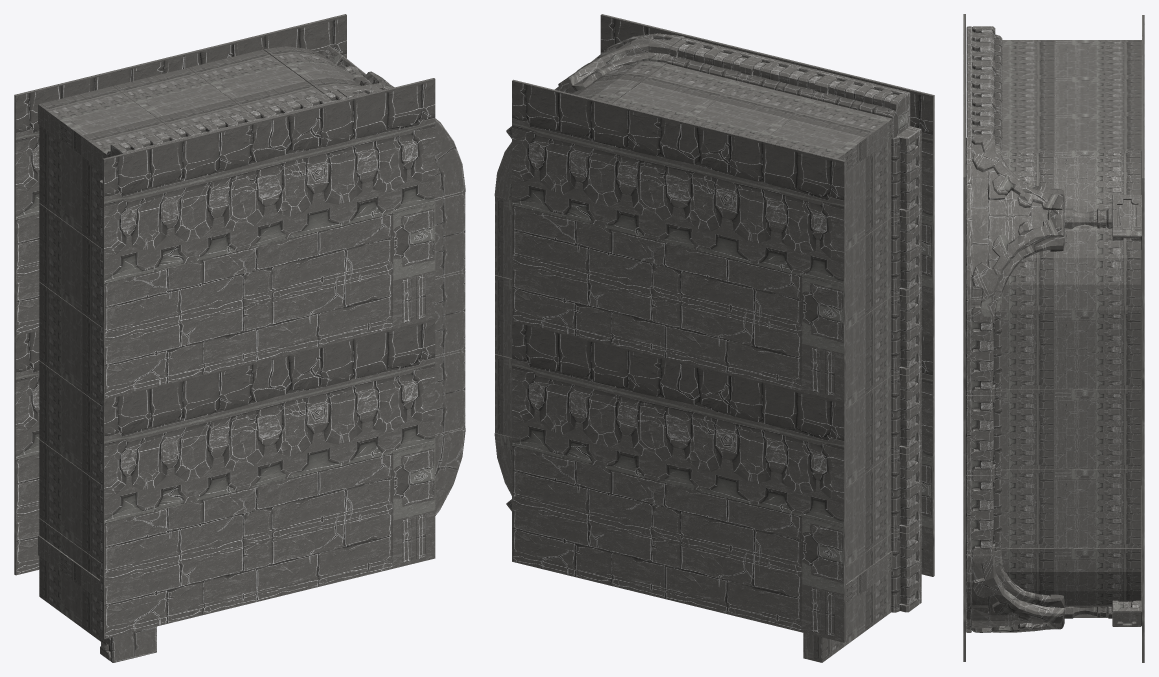
File: room.obj
3 views of the same model, side by side, from view 1: azimuth 30°, elevation 25°; view 2: azimuth 150°, elevation 25°; view 3: azimuth 270°, elevation 25° (orthographic).
Parts seen in each view (by area): view 1: room:Mesh; view 2: room:Mesh; view 3: room:Mesh.
Part boxes in pixels (x1=…): room:Mesh: x1=14, y1=14, x2=465, y2=662; room:Mesh: x1=494, y1=14, x2=934, y2=662; room:Mesh: x1=963, y1=14, x2=1144, y2=662.
Size of the model in its own units: 9716 by 12957 by 4156.
